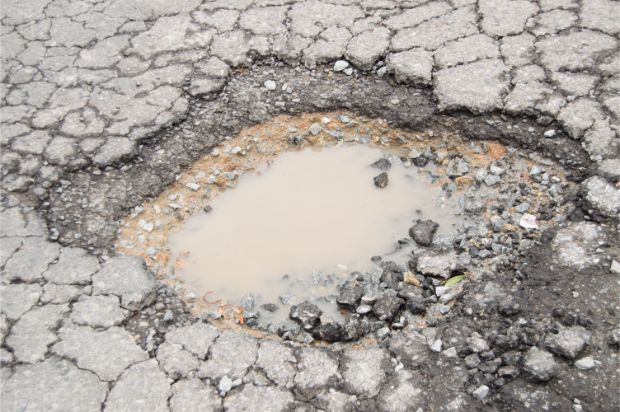pothole: (25, 40, 603, 357)
